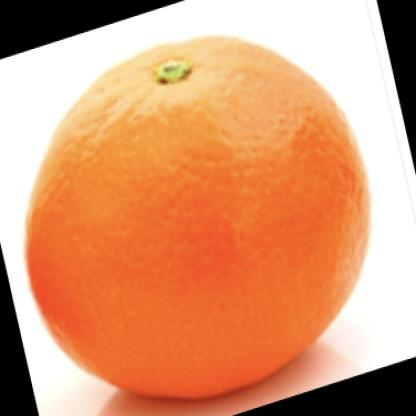fresh: (27, 38, 370, 398)
